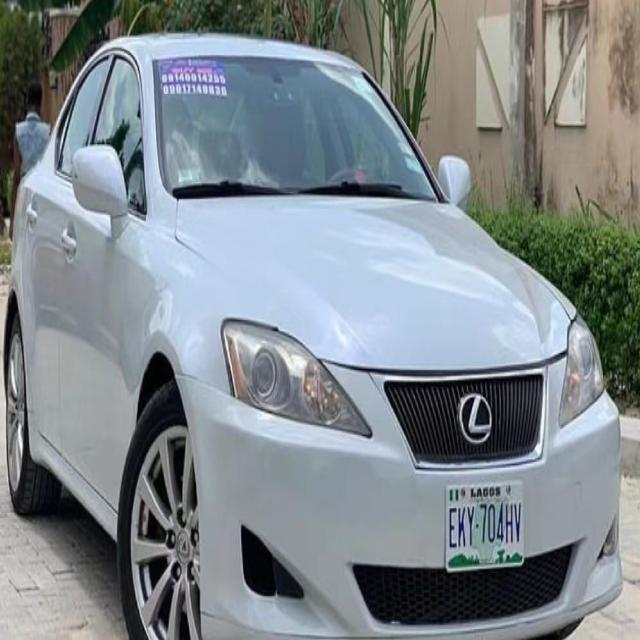Nigerian License Plate - vdataset benjamin-daria: (444, 480, 530, 576)
